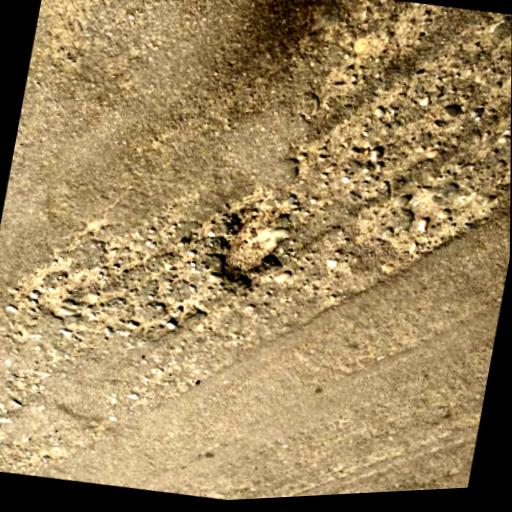pothole: (212, 195, 295, 294), (152, 288, 207, 340)
